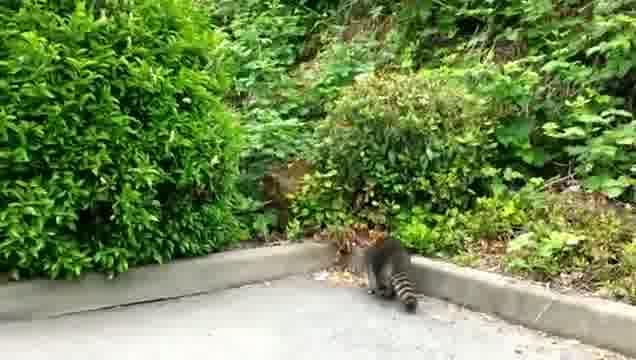raccoon: (364, 237, 418, 314)
